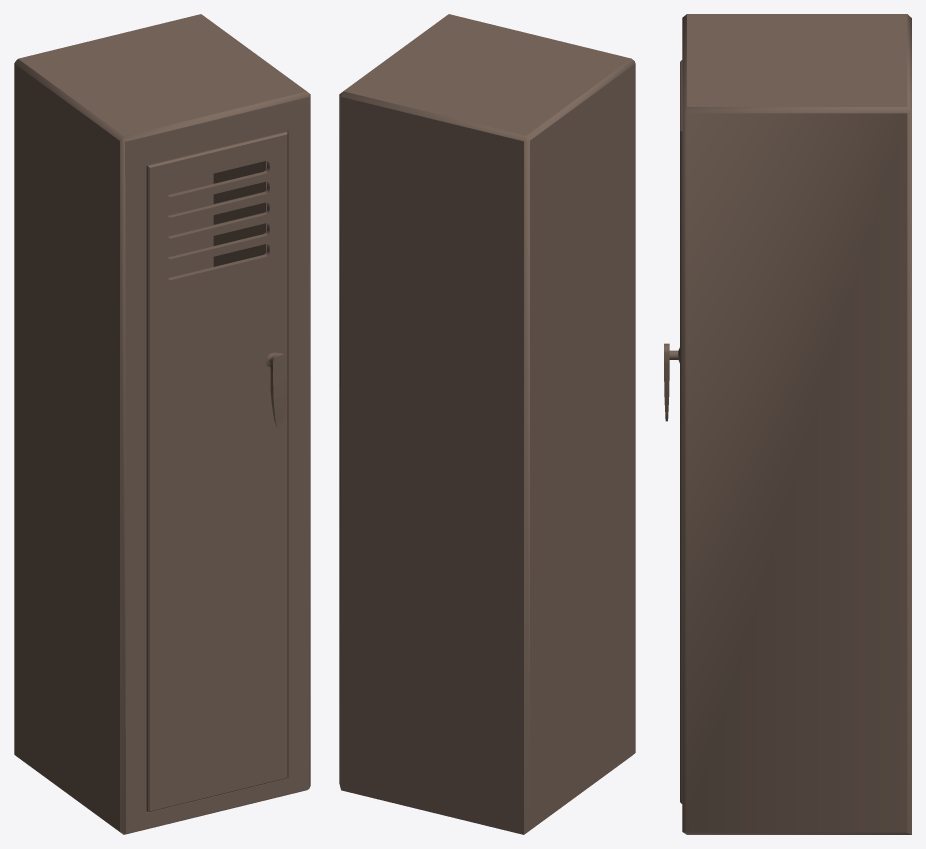
File: LOCKER.fbx
3 renders of one model, left to right at view 1: azimuth 30°, elevation 25°; view 2: azimuth 150°, elevation 25°; view 3: azimuth 270°, elevation 25°, orthographic. The views are drawn at different scales.
Parts seen in each view (by area): view 1: Box01, Box02; view 2: Box01; view 3: Box01, Box02.
Part boxes in pixels (box(x1,y1,x2,y2)): Box01: box(14, 14, 310, 834); Box02: box(146, 131, 287, 812); Box01: box(339, 14, 635, 834); Box01: box(682, 14, 911, 834); Box02: box(664, 60, 682, 803).
Size of the model in its own units: 124 by 434 by 134.
